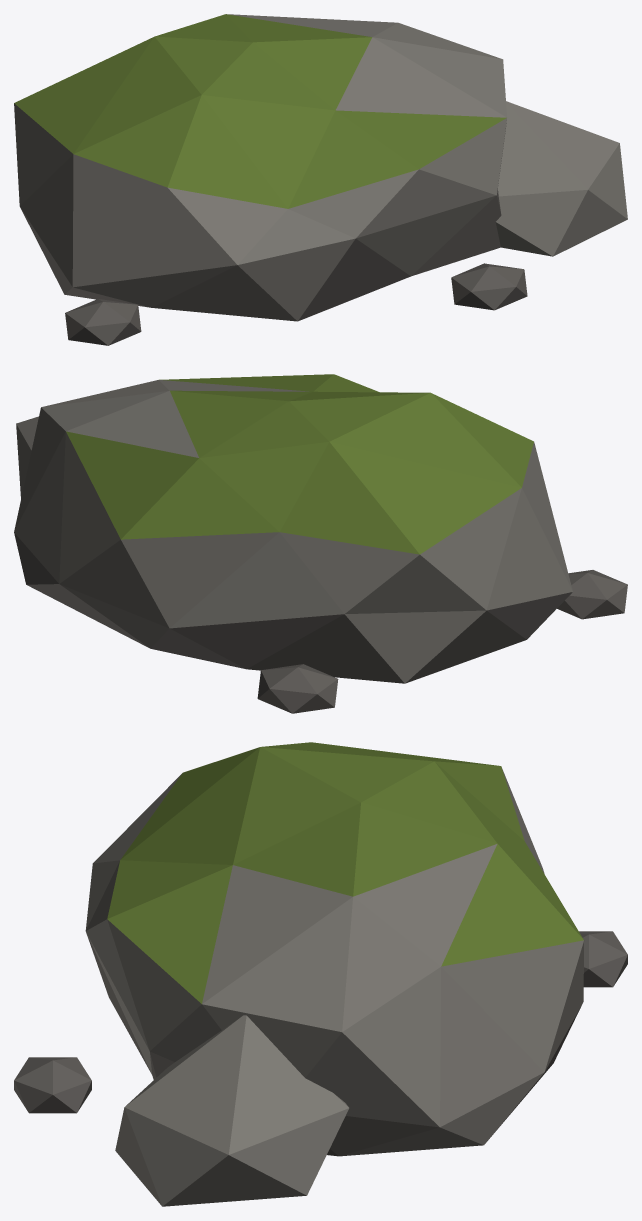
File: rock.glb
3 renders of one model, top to bottom at view 1: azimuth 30°, elevation 25°; view 2: azimuth 150°, elevation 25°; view 3: azimuth 270°, elevation 25°, orthographic. The views are drawn at different scales.
Visible parts, largest first — view 1: rock; view 2: rock; view 3: rock.
Boxes of the visible parts, x1,y1,x2,y2 form: rock: (14,14,627,345); rock: (14,374,627,713); rock: (14,742,627,1206).
Size of the model in its own units: 1.73 by 0.5552 by 1.34.
